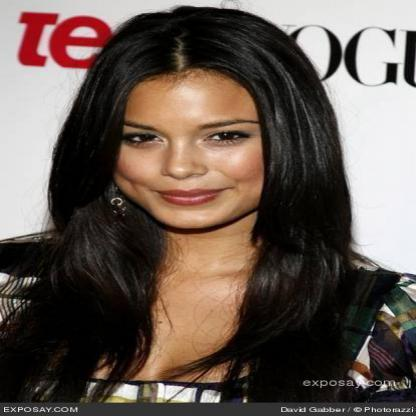long-hair: (28, 237, 377, 292)
